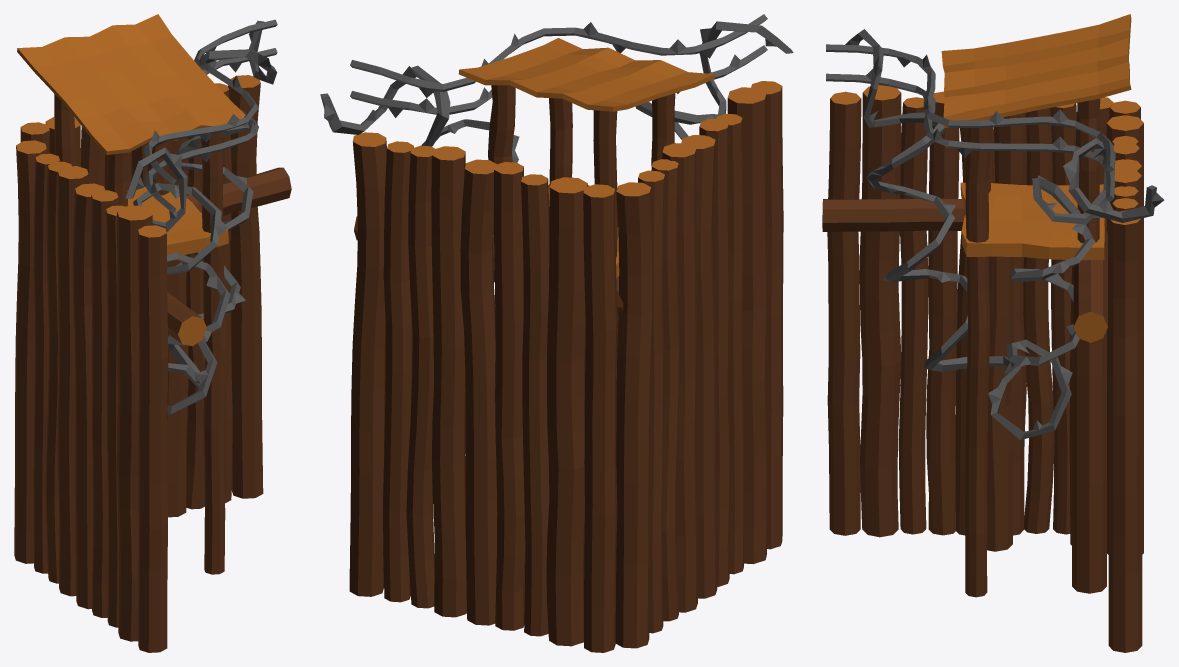
Rendered from wall_corner.fbx.
3 views of the same model, side by side, from view 1: azimuth 30°, elevation 25°; view 2: azimuth 150°, elevation 25°; view 3: azimuth 270°, elevation 25° (orthographic). The views are drawn at different scales.
Parts seen in each view (by area): view 1: Walls, Tower, Circular Wire, Cylinder; view 2: Walls, Tower, Cylinder, Circular Wire; view 3: Walls, Tower, Circular Wire, Cylinder.
Part boxes in pixels (bbox=[...]): Walls: bbox=[14, 75, 291, 652]; Tower: bbox=[17, 14, 245, 574]; Circular Wire: bbox=[125, 20, 277, 414]; Cylinder: bbox=[144, 19, 277, 213]; Walls: bbox=[349, 81, 783, 652]; Tower: bbox=[458, 38, 714, 378]; Cylinder: bbox=[350, 14, 767, 117]; Circular Wire: bbox=[320, 21, 793, 304]; Walls: bbox=[822, 85, 1143, 652]; Tower: bbox=[941, 14, 1131, 597]; Circular Wire: bbox=[845, 29, 1164, 440]; Cylinder: bbox=[826, 44, 1114, 201].
Bounding box in the file's own units: 261 × 435 × 261.
